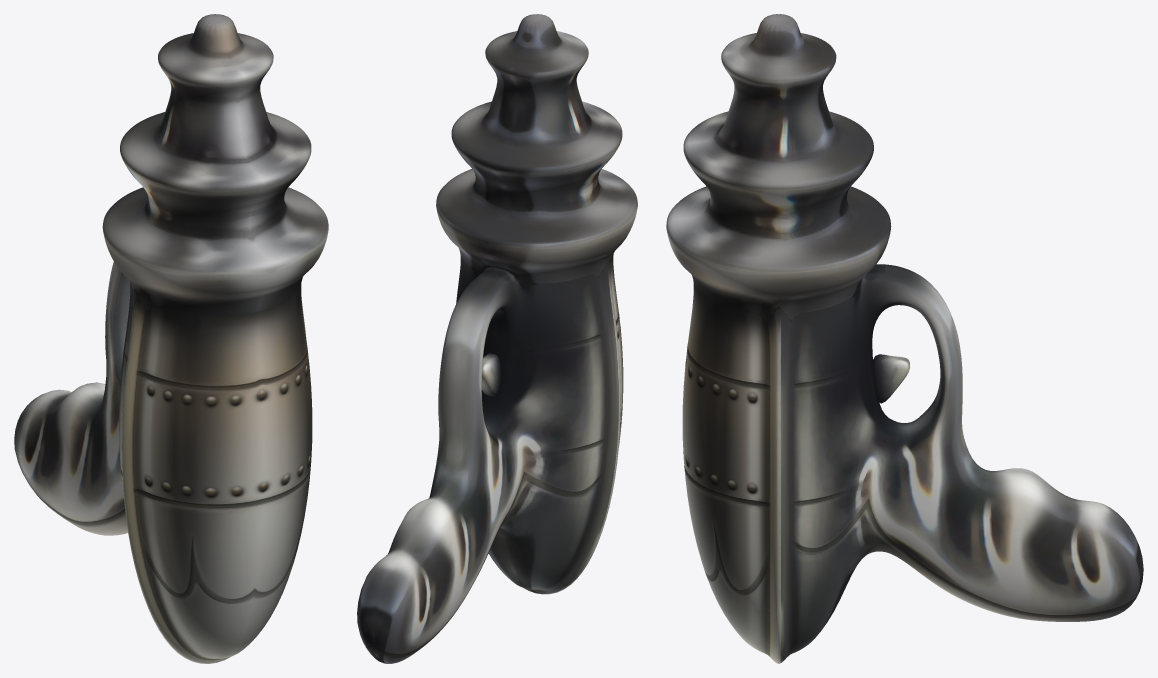
File: gun.glb
The picture shows the model from 3 angles, left to right: view 1: azimuth 30°, elevation 25°; view 2: azimuth 150°, elevation 25°; view 3: azimuth 270°, elevation 25°; orthographic projection. The views are drawn at different scales.
Visible parts, largest first — view 1: 10462_50s Raygun_v1_Iterations-2.001; view 2: 10462_50s Raygun_v1_Iterations-2.001; view 3: 10462_50s Raygun_v1_Iterations-2.001.
Part boxes in pixels (bbox=[...]): 10462_50s Raygun_v1_Iterations-2.001: bbox=[14, 14, 328, 663]; 10462_50s Raygun_v1_Iterations-2.001: bbox=[357, 14, 637, 663]; 10462_50s Raygun_v1_Iterations-2.001: bbox=[666, 14, 1143, 663].
Bounding box in the file's own units: 0.392 × 1.23 × 0.8321.
Materials: 1 (1 with a texture image).
